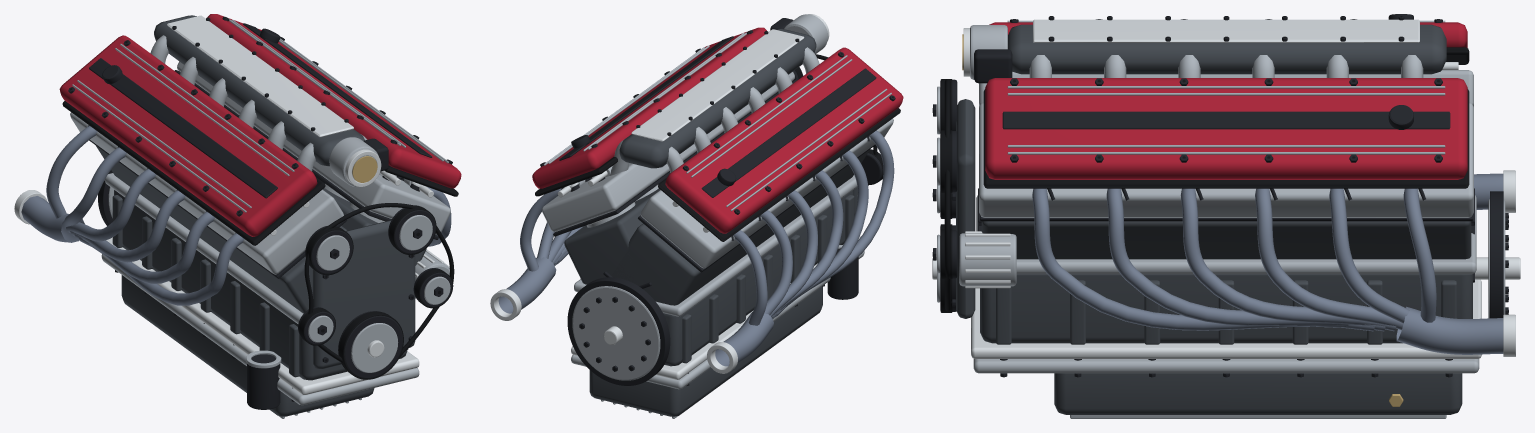
File: motorservice-v12.glb
3 renders of one model, left to right at view 1: azimuth 30°, elevation 25°; view 2: azimuth 150°, elevation 25°; view 3: azimuth 270°, elevation 25°, orthographic. The views are drawn at different scales.
Visible parts, largest first — view 1: 09_CamCover_L_Geometry, 14_TimingDrive_Geometry, 11_Intake_Geometry, 01_Crankcase_Geometry, 12_Exhaust_L_Geometry, 15_OilSump_Geometry, 10_CamCover_R_Geometry, 07_Head_L_Geometry, 08_Head_R_Geometry, 02_CylinderBank_L_Geometry, 03_CylinderBank_R_Geometry, 04_Crankshaft_Geometry; view 2: 09_CamCover_L_Geometry, 11_Intake_Geometry, 12_Exhaust_L_Geometry, 01_Crankcase_Geometry, 04_Crankshaft_Geometry, 10_CamCover_R_Geometry, 15_OilSump_Geometry, 02_CylinderBank_L_Geometry, 08_Head_R_Geometry, 07_Head_L_Geometry, 03_CylinderBank_R_Geometry, 13_Exhaust_R_Geometry (+1 smaller); view 3: 10_CamCover_R_Geometry, 01_Crankcase_Geometry, 11_Intake_Geometry, 15_OilSump_Geometry, 13_Exhaust_R_Geometry, 03_CylinderBank_R_Geometry, 08_Head_R_Geometry, 14_TimingDrive_Geometry, 04_Crankshaft_Geometry, 07_Head_L_Geometry, 09_CamCover_L_Geometry, 12_Exhaust_L_Geometry.
Boxes of the visible parts, x1,y1,x2,y2 form: 09_CamCover_L_Geometry: [59, 35, 325, 245]; 14_TimingDrive_Geometry: [298, 203, 454, 379]; 11_Intake_Geometry: [150, 15, 388, 187]; 01_Crankcase_Geometry: [104, 173, 419, 394]; 12_Exhaust_L_Geometry: [14, 125, 244, 305]; 15_OilSump_Geometry: [101, 254, 419, 418]; 10_CamCover_R_Geometry: [207, 14, 461, 196]; 07_Head_L_Geometry: [70, 112, 347, 278]; 08_Head_R_Geometry: [174, 61, 450, 239]; 02_CylinderBank_L_Geometry: [96, 146, 347, 313]; 03_CylinderBank_R_Geometry: [322, 184, 426, 265]; 04_Crankshaft_Geometry: [98, 170, 384, 357]; 09_CamCover_L_Geometry: [658, 47, 903, 241]; 11_Intake_Geometry: [609, 14, 829, 175]; 12_Exhaust_L_Geometry: [707, 130, 894, 373]; 01_Crankcase_Geometry: [571, 175, 860, 379]; 04_Crankshaft_Geometry: [567, 277, 670, 385]; 10_CamCover_R_Geometry: [532, 27, 766, 196]; 15_OilSump_Geometry: [571, 245, 864, 418]; 02_CylinderBank_L_Geometry: [603, 149, 869, 305]; 08_Head_R_Geometry: [542, 72, 797, 236]; 07_Head_L_Geometry: [638, 118, 893, 272]; 03_CylinderBank_R_Geometry: [564, 185, 660, 288]; 13_Exhaust_R_Geometry: [490, 177, 592, 320]; 10_CamCover_R_Geometry: [983, 78, 1469, 188]; 01_Crankcase_Geometry: [971, 195, 1481, 360]; 11_Intake_Geometry: [962, 16, 1446, 83]; 15_OilSump_Geometry: [973, 358, 1479, 418]; 13_Exhaust_R_Geometry: [1032, 188, 1515, 356]; 03_CylinderBank_R_Geometry: [978, 188, 1474, 282]; 08_Head_R_Geometry: [979, 102, 1473, 221]; 14_TimingDrive_Geometry: [932, 79, 1016, 318]; 04_Crankshaft_Geometry: [932, 191, 1520, 318]; 07_Head_L_Geometry: [979, 62, 1473, 106]; 09_CamCover_L_Geometry: [989, 14, 1469, 64]; 12_Exhaust_L_Geometry: [1474, 170, 1515, 212].
Bounding box in the file's own units: 3.66 × 3.83 × 5.55.
